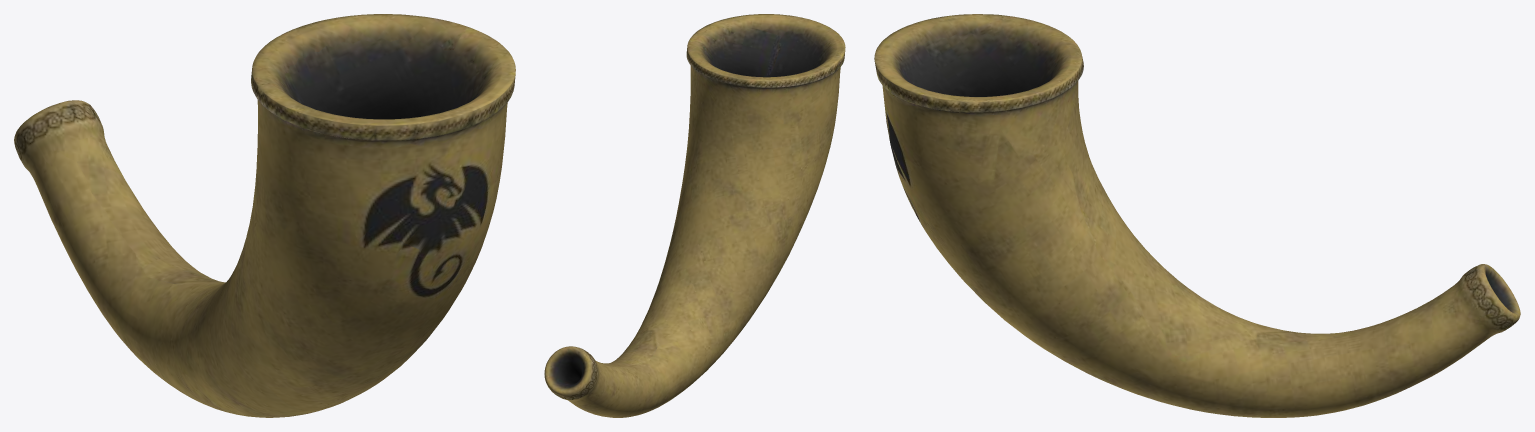
File: MZ4250 - Horn.glb
3 renders of one model, left to right at view 1: azimuth 30°, elevation 25°; view 2: azimuth 150°, elevation 25°; view 3: azimuth 270°, elevation 25°, orthographic. The views are drawn at different scales.
Parts seen in each view (by area): view 1: Horn.001; view 2: Horn.001; view 3: Horn.001.
Boxes of the visible parts, x1,y1,x2,y2 form: Horn.001: (14, 14, 515, 417); Horn.001: (544, 14, 845, 417); Horn.001: (874, 14, 1520, 417).
Bounding box in the file's own units: 3.27 × 6.18 × 10.17.
Materials: 1 (1 with a texture image).
